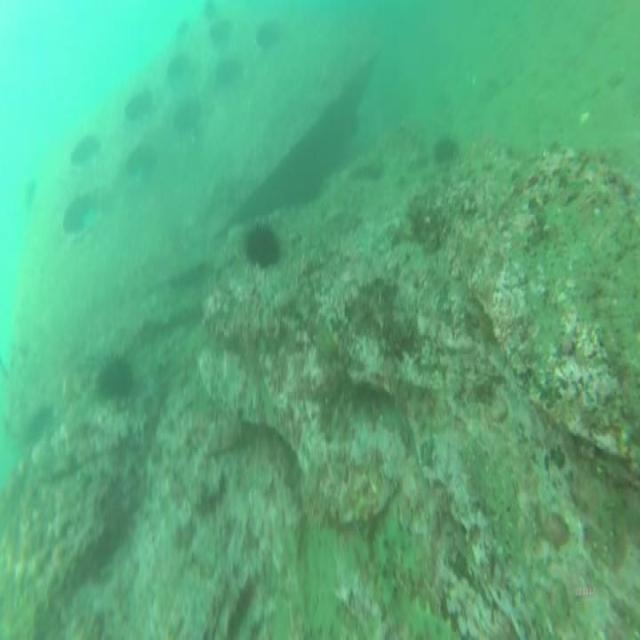echinus: (92, 351, 137, 398), (244, 220, 284, 272), (430, 130, 460, 172)
holothurian: (370, 510, 418, 600)
